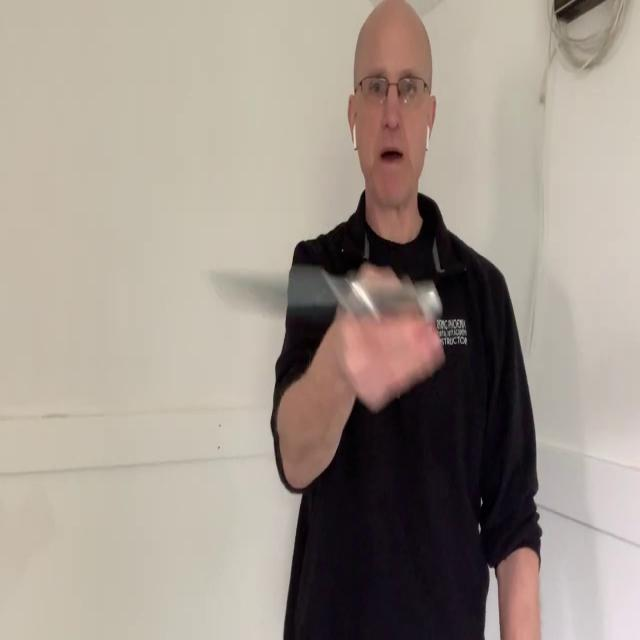Knife_Handle: (203, 268, 444, 412)
